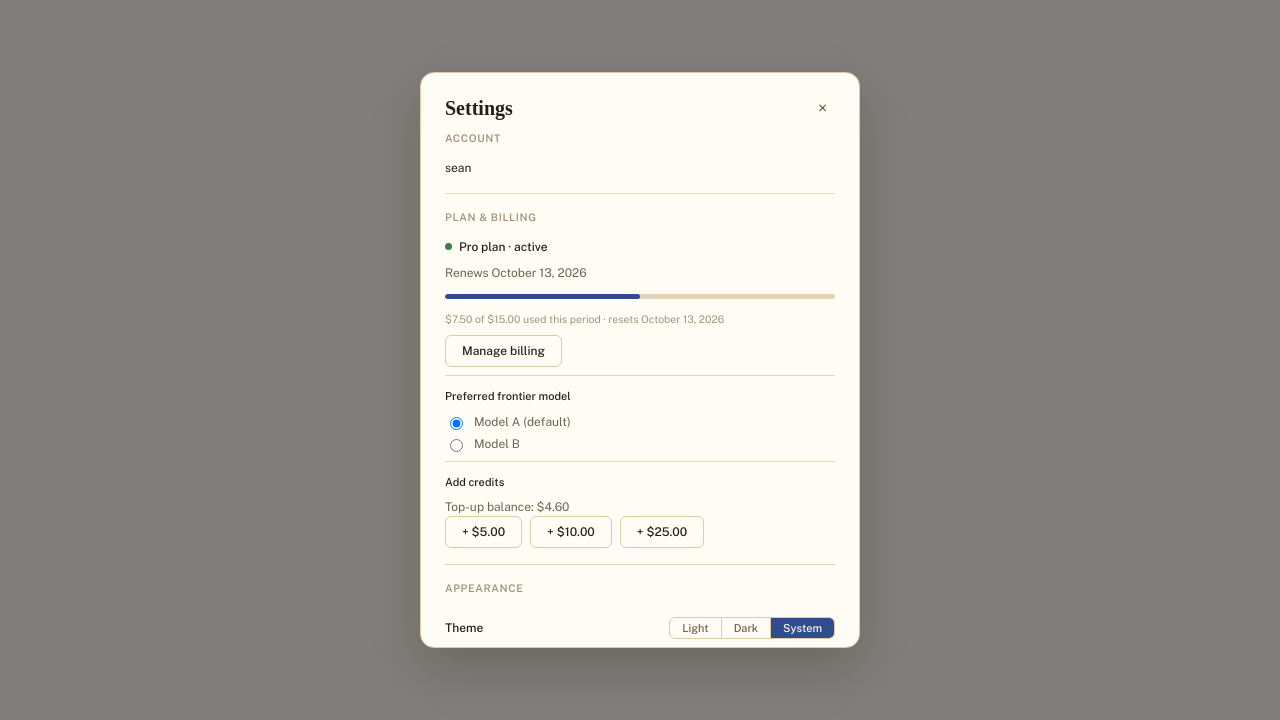
Test case: SettingsPanel › pro plan: selecting a model saves it and reflects the new selection
Check: the text "Pro plan · active" is shown, box [445,238,548,256]
What coordinates should you click on to do the following:
click the radio button labelled "Model B"
I would click on:
 (456, 445)
Its box is [450,439,463,452].
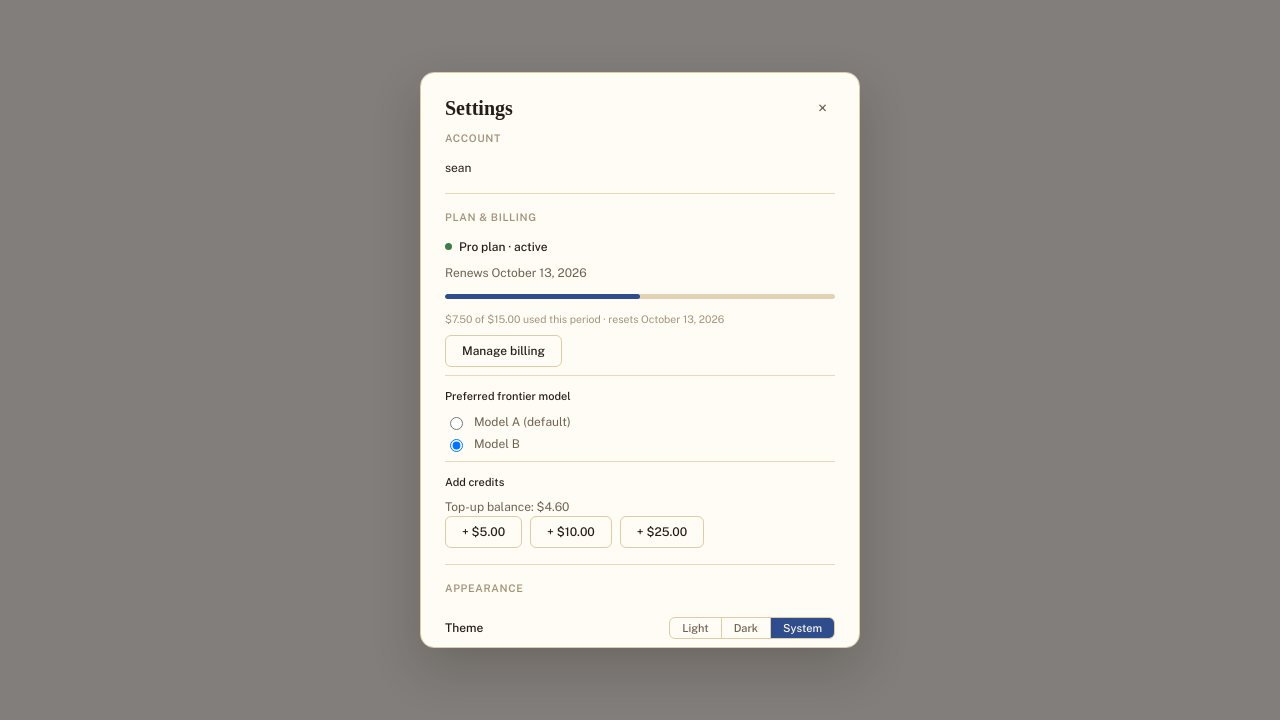
Check: the radio button labelled "Model B" is checked, box [450,439,463,452]
Check: the radio button labelled "Model A (default)" is not checked, box [450,417,463,430]
